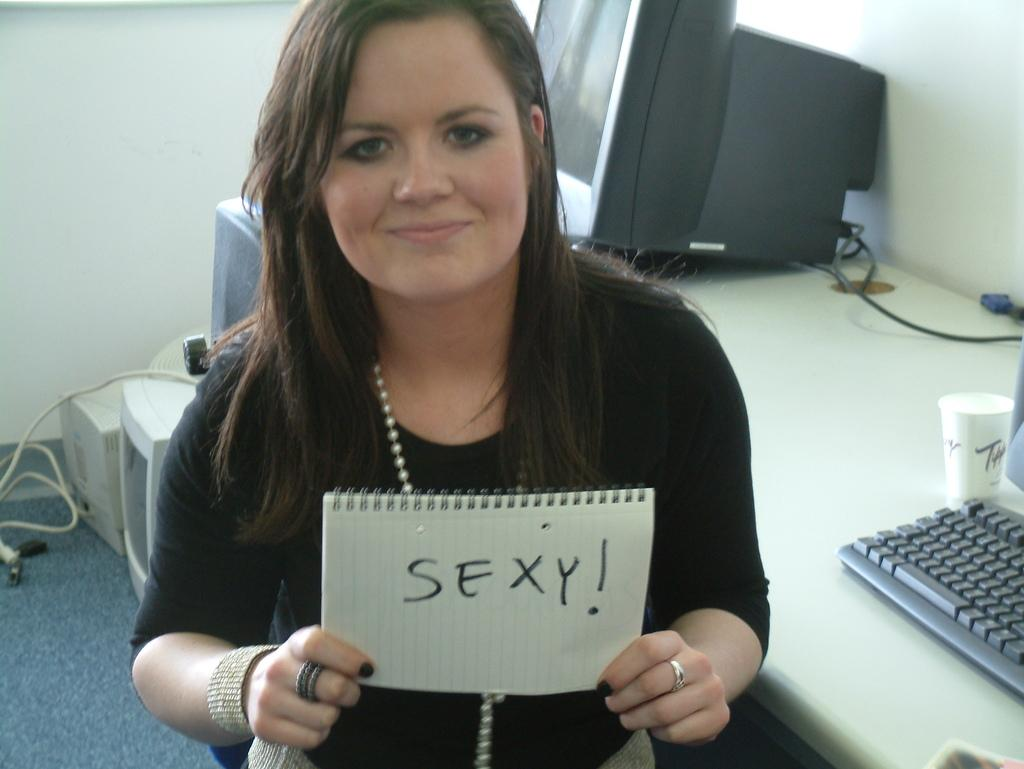Computer-keyboard: (835, 494, 1023, 702)
